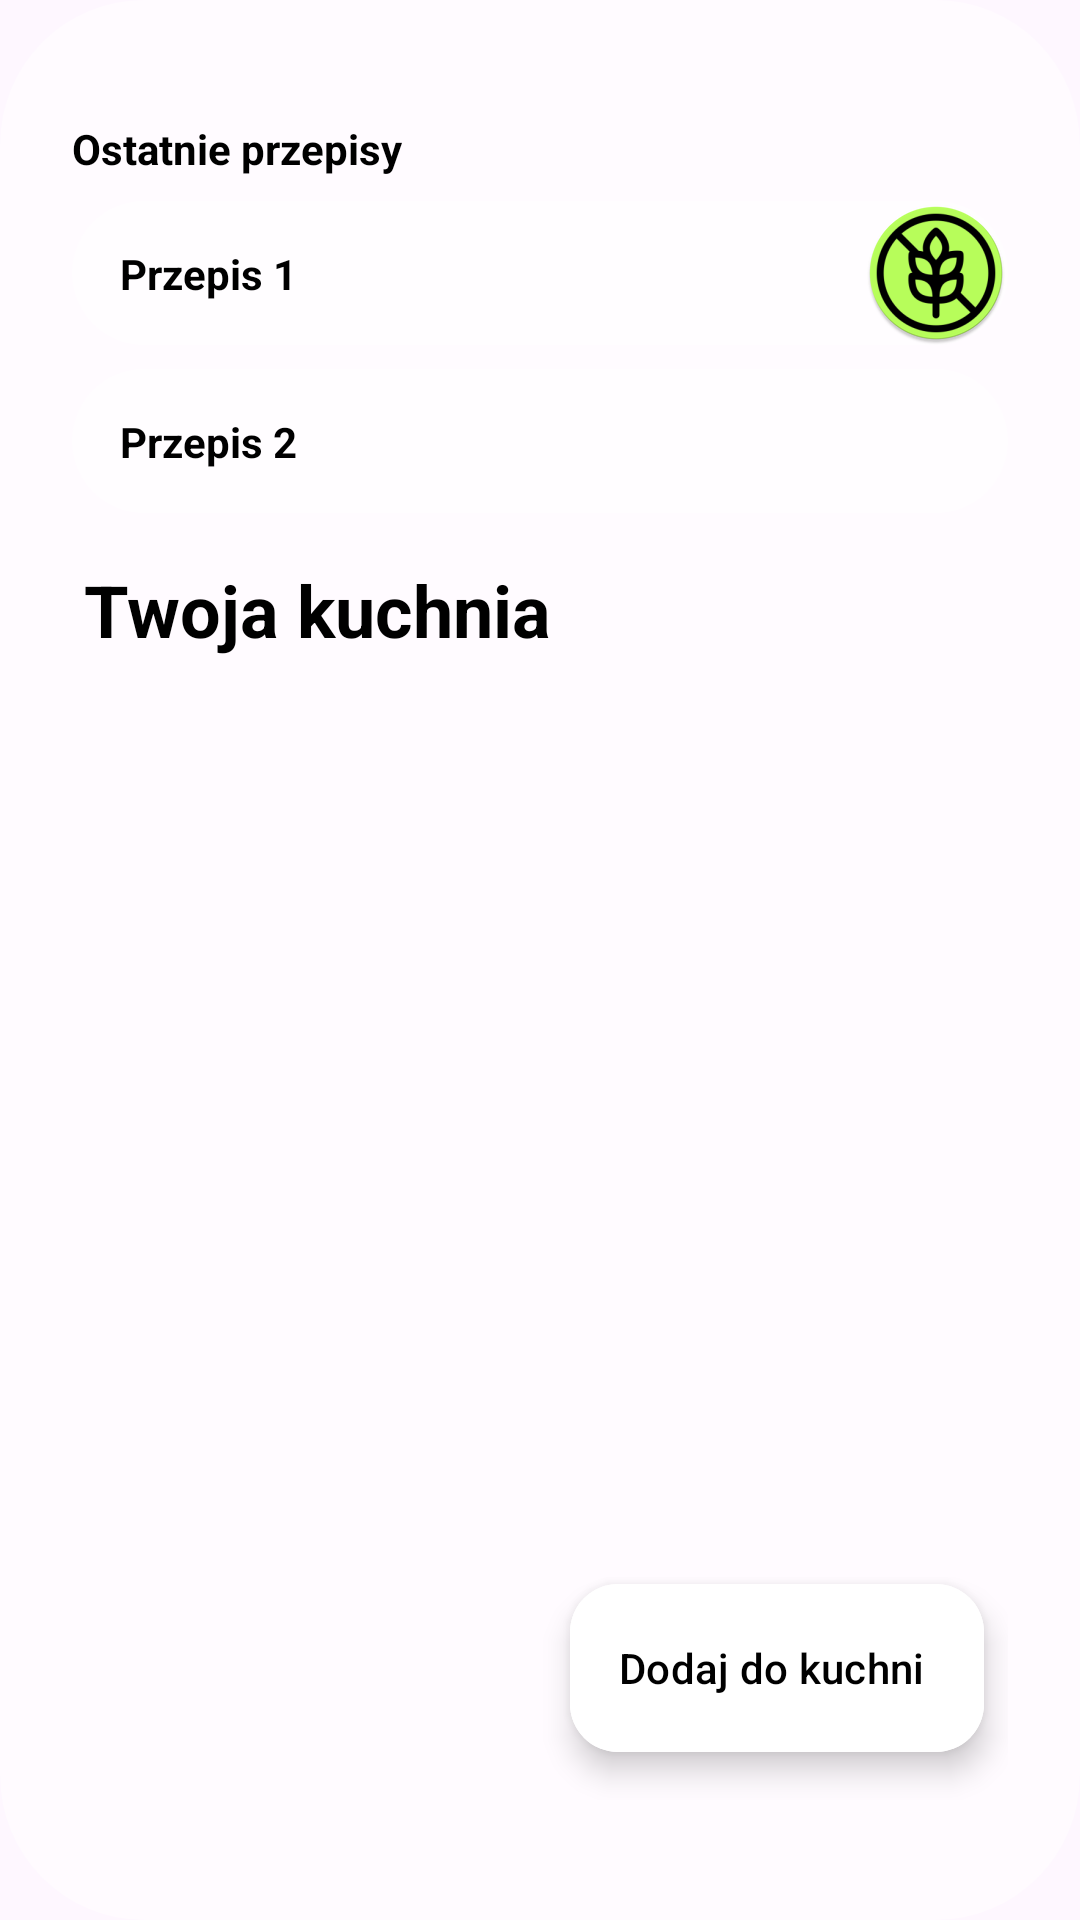

Where to tap for icons on this 1080 × 1920 app screen, as (x=x, y=y):
gluten round: (x=936, y=274)
